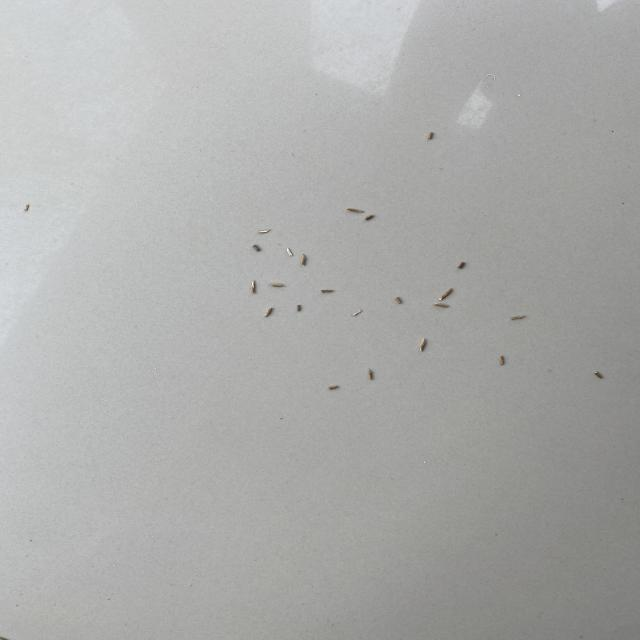Wereng: (248, 278, 264, 298), (441, 284, 456, 304), (262, 304, 280, 320), (255, 227, 278, 239), (324, 382, 347, 394), (424, 127, 440, 144), (416, 336, 431, 354), (590, 367, 608, 382), (430, 299, 455, 309), (365, 365, 378, 384), (269, 280, 289, 291), (350, 306, 365, 319), (292, 302, 307, 315), (20, 200, 36, 212), (392, 296, 411, 306), (318, 287, 338, 296), (284, 245, 296, 259), (507, 315, 530, 322), (250, 244, 264, 255), (497, 353, 508, 367), (346, 207, 366, 214), (455, 260, 469, 270), (300, 253, 310, 267), (367, 213, 377, 224)
